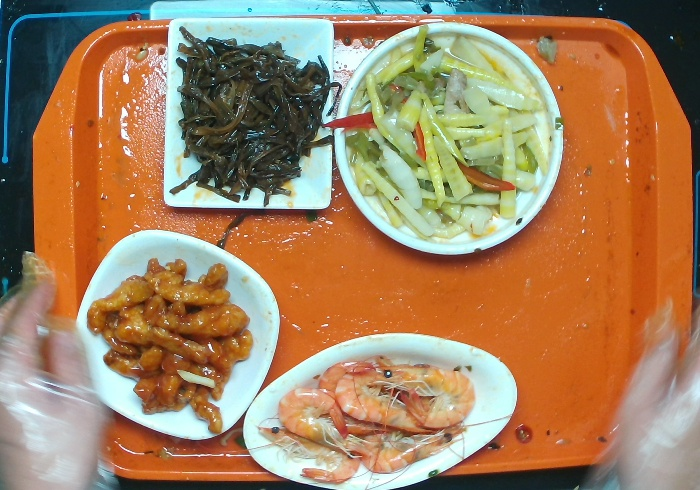HZYJPL-Si_Fang_Die: (159, 4, 355, 224)
HZYJPL-Si_Fang_Yuan_Die: (65, 219, 287, 450)
HZYJPL-Xiao_Yu_Die: (237, 324, 527, 490)
HZYJPL-Xiao_Yuan_Die: (329, 14, 573, 265)
